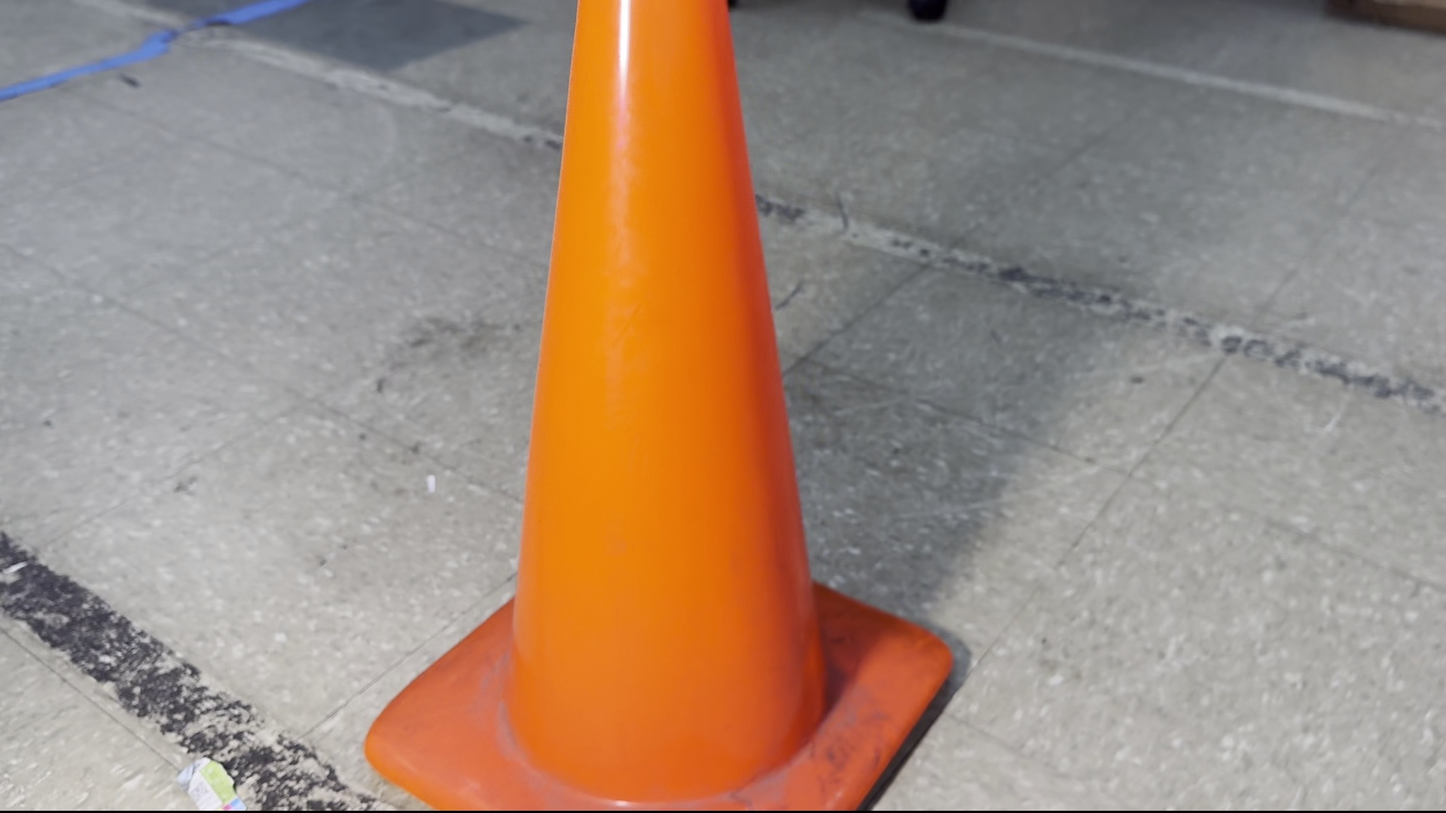traffic_cone: (362, 1, 955, 811)
